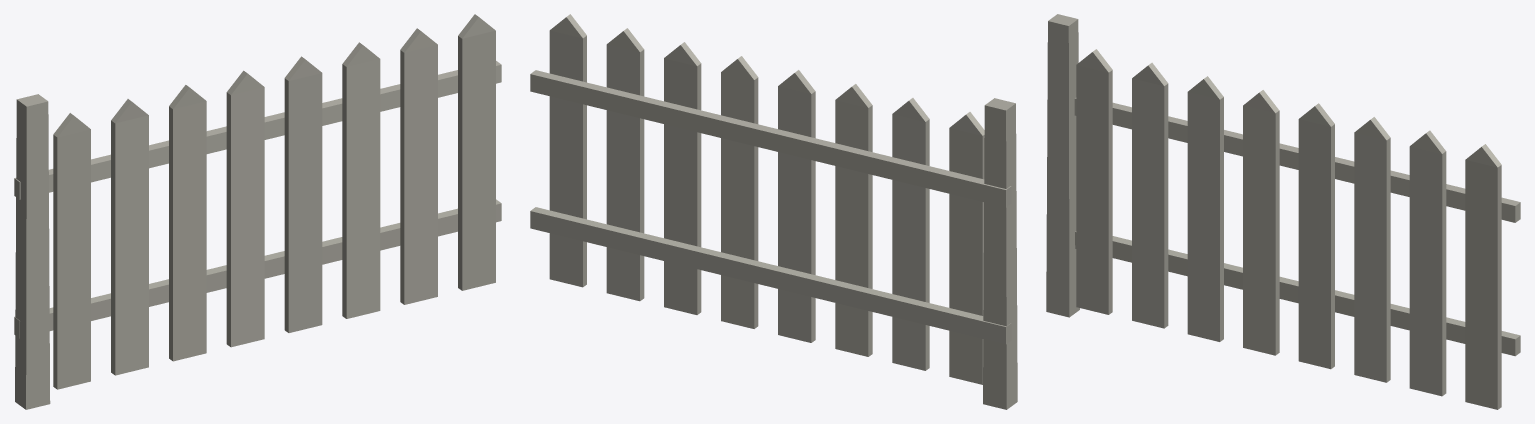
File: fence_wood.fbx
3 views of the same model, side by side, from view 1: azimuth 30°, elevation 25°; view 2: azimuth 150°, elevation 25°; view 3: azimuth 330°, elevation 25° (orthographic). The views are drawn at different scales.
Parts seen in each view (by area): view 1: fence_wood; view 2: fence_wood; view 3: fence_wood.
Part boxes in pixels (left/top/right/bottom): fence_wood: left=14, top=14, right=501, bottom=409; fence_wood: left=530, top=14, right=1017, bottom=409; fence_wood: left=1046, top=14, right=1520, bottom=409.
Size of the model in its own units: 2 by 1.2 by 0.085.
